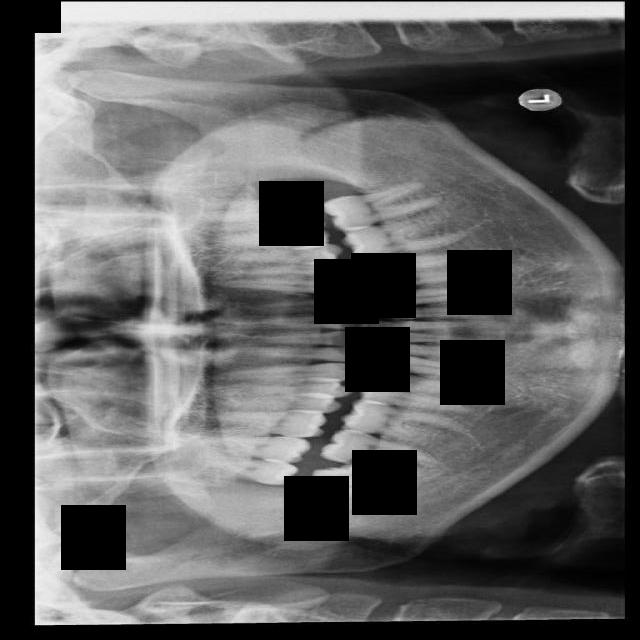3M ESPE Implant: (197, 452, 299, 488)
52: (347, 457, 368, 463)
73: (564, 126, 584, 139)
BioHorizons Implant: (196, 193, 313, 222)
Blue Sky Bio Implant: (321, 177, 446, 235)
Caries: (210, 434, 310, 464)
Implant: (319, 422, 437, 480)
Keystone Dental Implant: (309, 458, 388, 516)
